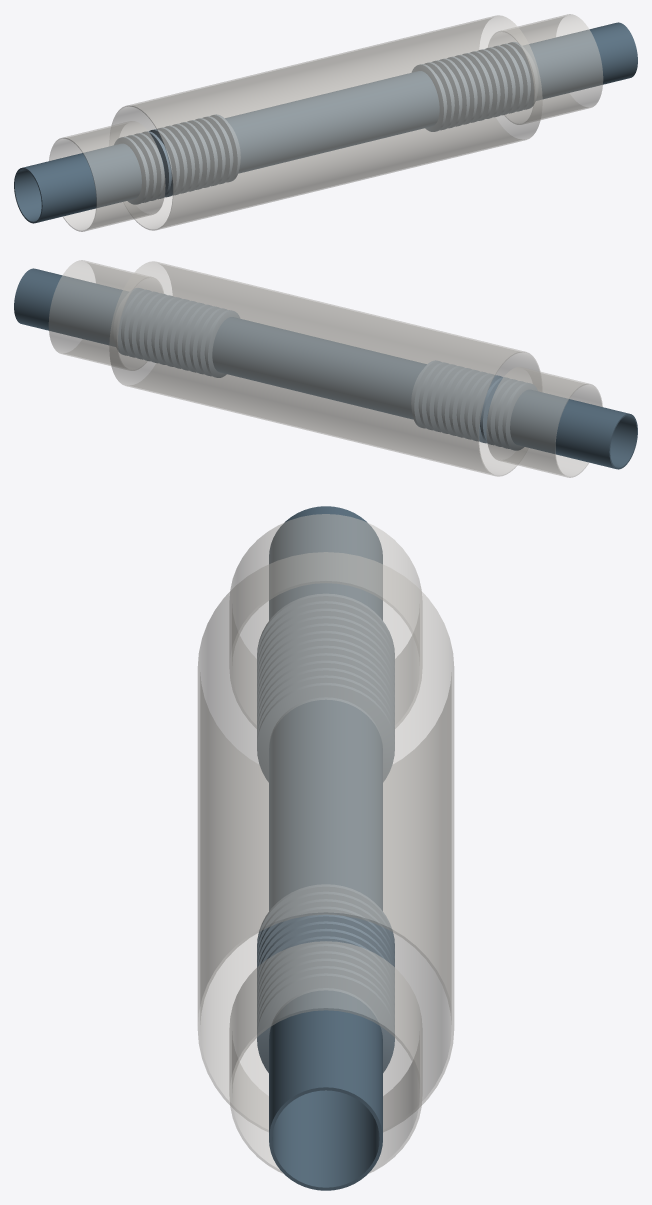
Rendered from 2ppu-dn125-L1602-D133-k-o299.glb.
3 renders of one model, top to bottom at view 1: azimuth 30°, elevation 25°; view 2: azimuth 150°, elevation 25°; view 3: azimuth 270°, elevation 25°, orthographic. The views are drawn at different scales.
Parts seen in each view (by area): view 1: uslovno_kozhuh_ppu, uslovno_obolochka_l, uslovno_obolochka_r, prokladka_silfon_1, prokladka_silfon_2, patrubok_1, patrubok_3, patrubok_2, patrubok_4; view 2: uslovno_kozhuh_ppu, uslovno_obolochka_l, uslovno_obolochka_r, prokladka_silfon_1, prokladka_silfon_2, patrubok_1, patrubok_3, patrubok_2, patrubok_4; view 3: uslovno_kozhuh_ppu, patrubok_4, uslovno_obolochka_r, uslovno_obolochka_l, prokladka_silfon_2, prokladka_silfon_1, patrubok_2, patrubok_1, patrubok_3.
Boxes of the visible parts, x1,y1,x2,y2 form: uslovno_kozhuh_ppu: [111, 15, 542, 230]; uslovno_obolochka_l: [49, 121, 165, 231]; uslovno_obolochka_r: [488, 14, 603, 124]; prokladka_silfon_1: [114, 114, 240, 204]; prokladka_silfon_2: [412, 42, 538, 131]; patrubok_1: [14, 143, 141, 223]; patrubok_3: [321, 71, 439, 150]; patrubok_2: [225, 95, 340, 173]; patrubok_4: [523, 22, 637, 100]; uslovno_kozhuh_ppu: [109, 261, 540, 476]; uslovno_obolochka_l: [486, 367, 602, 477]; uslovno_obolochka_r: [48, 260, 163, 370]; prokladka_silfon_1: [411, 360, 537, 450]; prokladka_silfon_2: [113, 288, 239, 377]; patrubok_1: [510, 389, 637, 469]; patrubok_3: [212, 317, 330, 396]; patrubok_2: [311, 341, 426, 419]; patrubok_4: [14, 268, 128, 346]; uslovno_kozhuh_ppu: [197, 552, 454, 1131]; patrubok_4: [269, 990, 382, 1190]; uslovno_obolochka_r: [229, 941, 422, 1173]; uslovno_obolochka_l: [229, 514, 422, 728]; prokladka_silfon_2: [257, 884, 394, 1090]; prokladka_silfon_1: [257, 593, 394, 782]; patrubok_2: [269, 699, 382, 844]; patrubok_1: [269, 506, 382, 620]; patrubok_3: [269, 796, 382, 910].
Bounding box in the file's own units: 1602 × 299 × 299.
